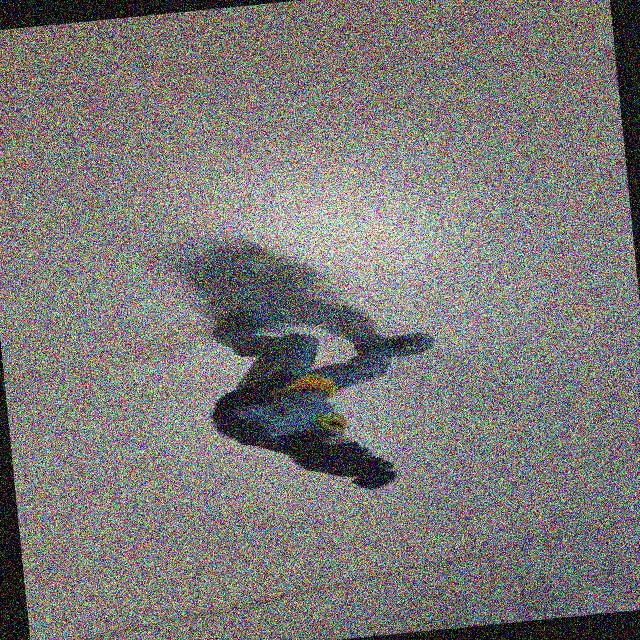Batman: (175, 288, 449, 522)
